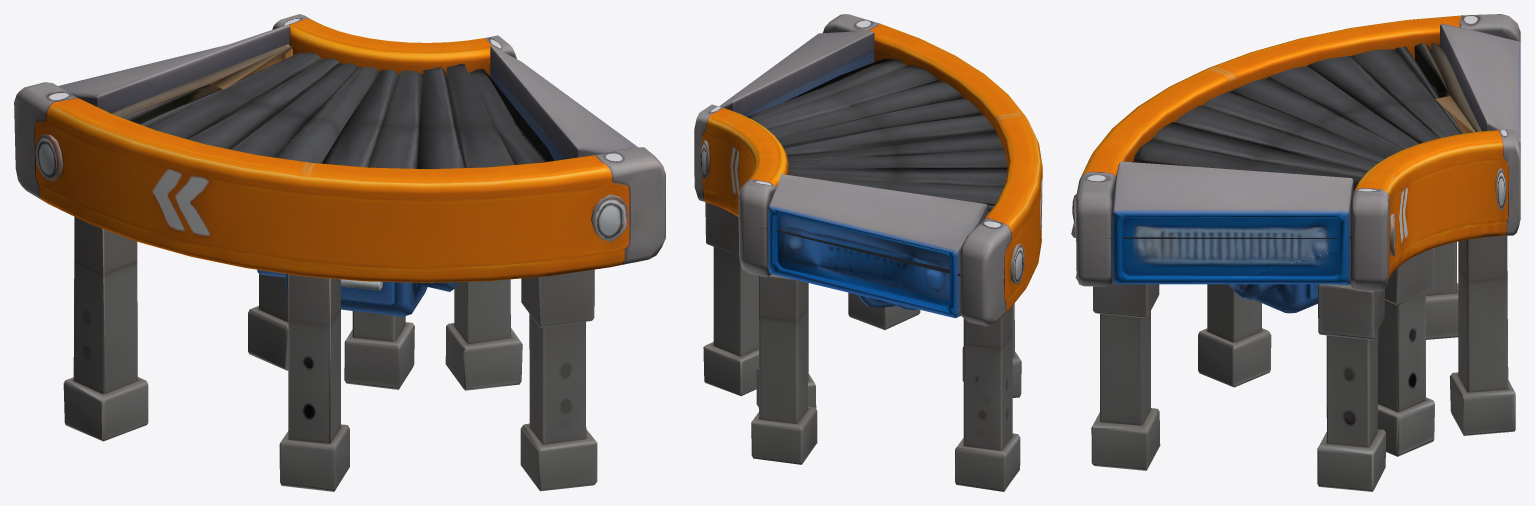
The model's file is corner.glb.
3 views of the same model, side by side, from view 1: azimuth 30°, elevation 25°; view 2: azimuth 150°, elevation 25°; view 3: azimuth 270°, elevation 25° (orthographic). The views are drawn at different scales.
Visible parts, largest first — view 1: CurvedMeshyGuardsAndEndPlates, FannedMeshyRollers, Foot_0_outside, Foot_2_outside, Foot_1_outside, Foot_2_inside, Foot_1_inside, Foot_0_inside, Meshy_drive; view 2: CurvedMeshyGuardsAndEndPlates, FannedMeshyRollers, Foot_0_inside, Foot_0_outside, Foot_2_inside, Foot_2_outside, Foot_1_outside, Roller_bed, Foot_1_inside; view 3: CurvedMeshyGuardsAndEndPlates, FannedMeshyRollers, Foot_2_inside, Foot_2_outside, Foot_0_inside, Foot_1_inside, Foot_1_outside, Foot_0_outside, Meshy_drive.
Boxes of the visible parts, x1=… form: CurvedMeshyGuardsAndEndPlates: x1=14, y1=14, x2=665, y2=282; FannedMeshyRollers: x1=110, y1=44, x2=554, y2=168; Foot_0_outside: x1=63, y1=216, x2=148, y2=441; Foot_2_outside: x1=520, y1=269, x2=597, y2=491; Foot_1_outside: x1=279, y1=274, x2=349, y2=491; Foot_2_inside: x1=445, y1=279, x2=522, y2=390; Foot_1_inside: x1=344, y1=311, x2=414, y2=389; Foot_0_inside: x1=248, y1=273, x2=288, y2=370; Meshy_drive: x1=257, y1=269, x2=458, y2=316; CurvedMeshyGuardsAndEndPlates: x1=694, y1=14, x2=1042, y2=326; FannedMeshyRollers: x1=747, y1=58, x2=1007, y2=214; Foot_0_inside: x1=751, y1=274, x2=817, y2=464; Foot_0_outside: x1=955, y1=306, x2=1020, y2=491; Foot_2_inside: x1=703, y1=202, x2=758, y2=396; Foot_2_outside: x1=848, y1=292, x2=920, y2=329; Foot_1_outside: x1=962, y1=303, x2=1021, y2=397; Roller_bed: x1=761, y1=227, x2=963, y2=277; Foot_1_inside: x1=756, y1=283, x2=816, y2=408; CurvedMeshyGuardsAndEndPlates: x1=1071, y1=14, x2=1520, y2=291; FannedMeshyRollers: x1=1132, y1=42, x2=1481, y2=191; Foot_2_inside: x1=1317, y1=284, x2=1385, y2=491; Foot_2_outside: x1=1091, y1=280, x2=1160, y2=470; Foot_0_inside: x1=1449, y1=235, x2=1515, y2=435; Foot_1_inside: x1=1377, y1=248, x2=1434, y2=456; Foot_1_outside: x1=1198, y1=284, x2=1271, y2=387; Foot_0_outside: x1=1426, y1=242, x2=1458, y2=339; Meshy_drive: x1=1229, y1=284, x2=1318, y2=313.
Bounding box in the file's own units: 0.6608 × 0.4939 × 0.6611.
Materials: 2 (2 with a texture image).
